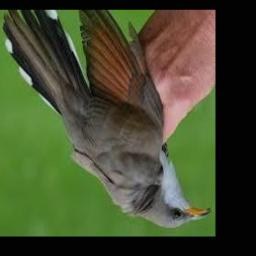Cuckoo: (2, 11, 211, 229)
